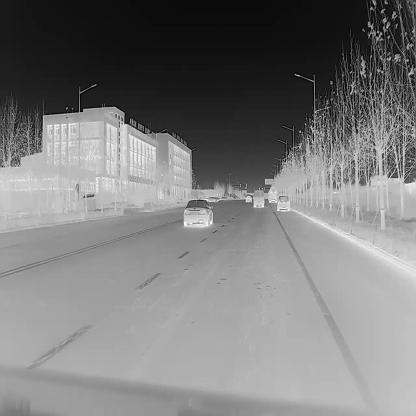car: (182, 198, 214, 226), (277, 194, 290, 210), (204, 196, 218, 202), (245, 193, 252, 202), (219, 195, 228, 201), (214, 195, 221, 201)
truck: (252, 188, 264, 207), (268, 185, 278, 203)
